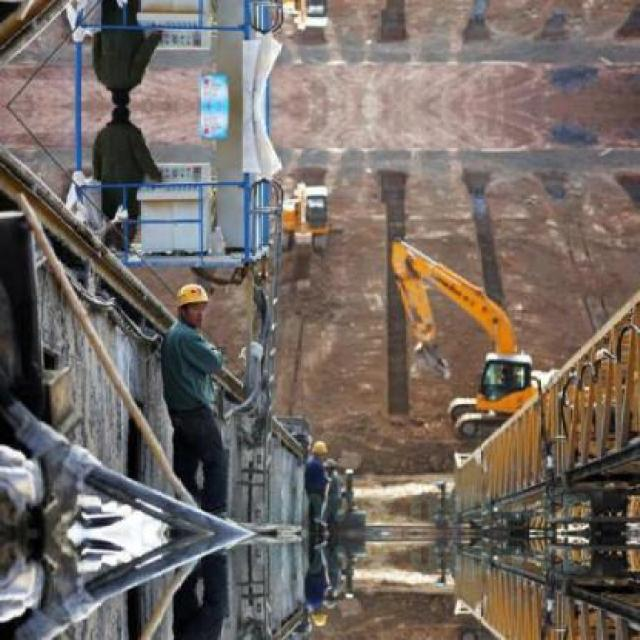helmet: (172, 279, 214, 316), (311, 439, 329, 455)
